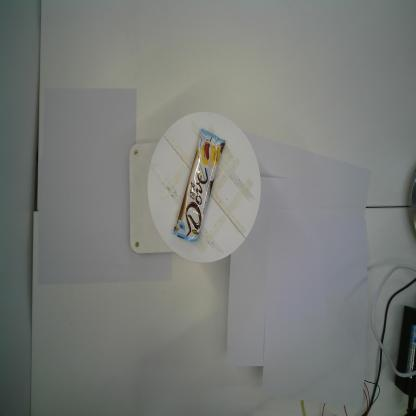Chocolate: (172, 127, 226, 242)
